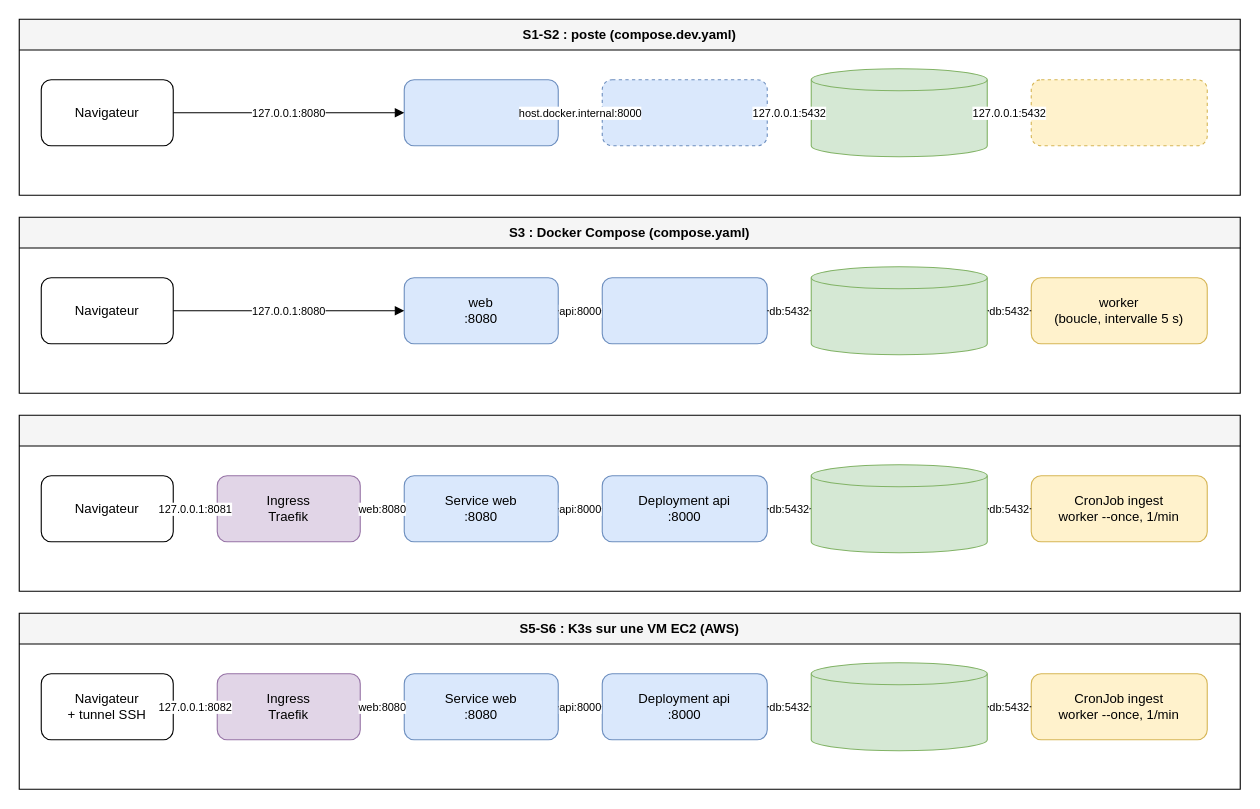
The diagram is 1260 pixels wide and 809 high, and some of its shapes have lost their labels. The box of each missing label's shape, as (x1, y1, x2, y2) in pixels:
api :8000: (601, 277, 767, 344)
api sur le poste :8000: (601, 79, 767, 146)
db (conteneur) :5432 volume devpgdata: (810, 68, 987, 157)
db :5432 PVC: (810, 464, 987, 553)
db :5432 PVC (disque de la VM): (810, 662, 987, 751)
db :5432 volume pgdata: (810, 266, 987, 355)
S4 : Kubernetes k3d (namespace campusdata): (18, 414, 1240, 591)
web (conteneur) :8080: (403, 79, 558, 146)
worker sur le poste (S2): (1030, 79, 1207, 146)
